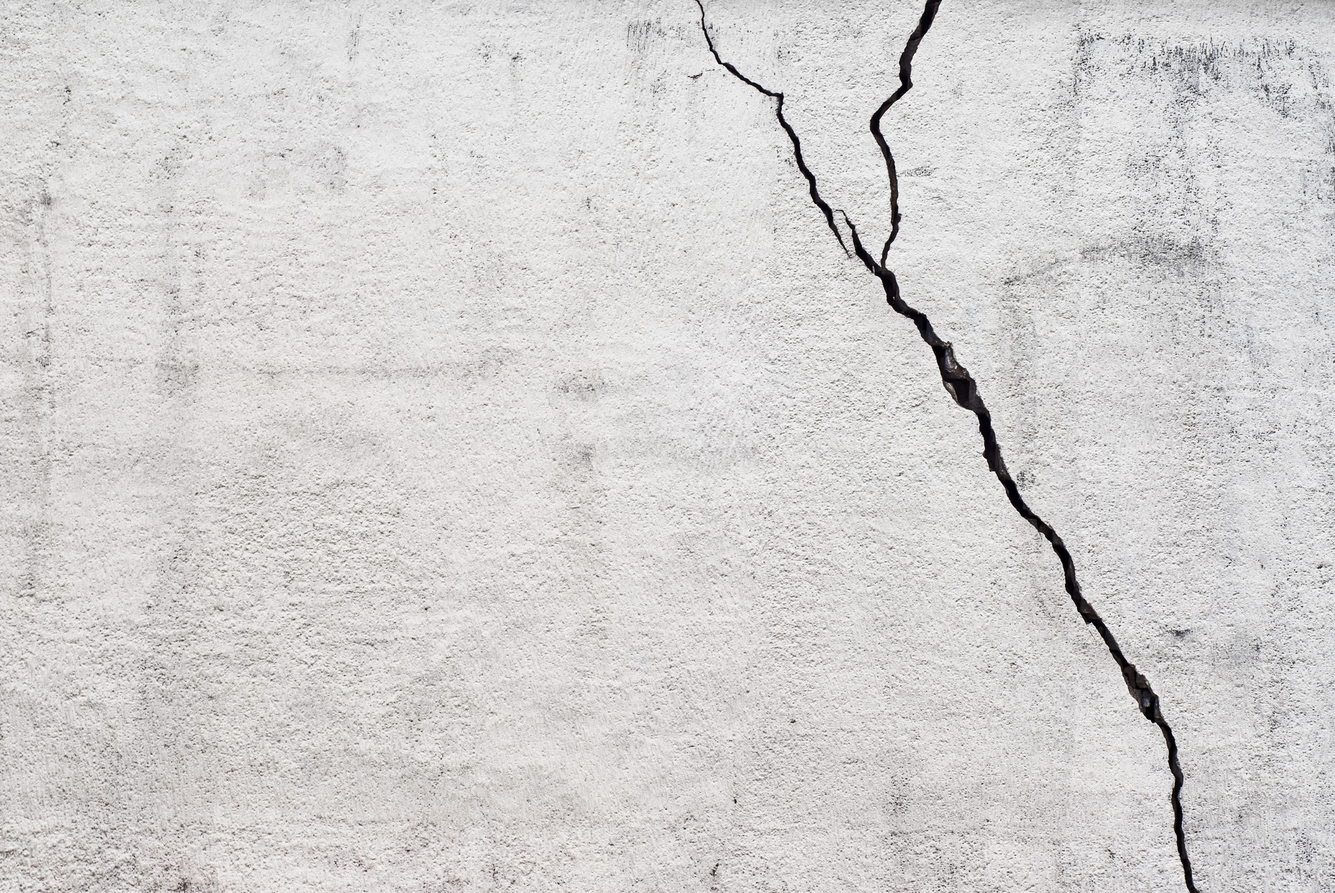crack: (700, 0, 1199, 893)
